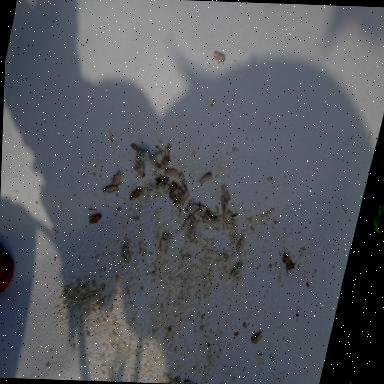pbw: (281, 252, 295, 276), (132, 159, 146, 178), (184, 198, 200, 214), (180, 214, 194, 231), (88, 212, 105, 225), (110, 170, 123, 186), (159, 231, 169, 251), (158, 155, 171, 170), (174, 190, 186, 206), (128, 142, 144, 154), (189, 217, 197, 240), (212, 52, 225, 66), (129, 186, 142, 200), (178, 172, 188, 190), (122, 244, 132, 262), (220, 185, 231, 201), (208, 219, 222, 231), (222, 212, 232, 228), (154, 176, 170, 186), (163, 168, 179, 178), (168, 180, 176, 200), (250, 331, 262, 344), (156, 185, 170, 196), (231, 262, 242, 276), (148, 155, 160, 167), (235, 236, 244, 252), (203, 212, 217, 222), (164, 141, 172, 158), (200, 204, 212, 214), (230, 219, 238, 232), (154, 150, 164, 160), (221, 200, 228, 214)
